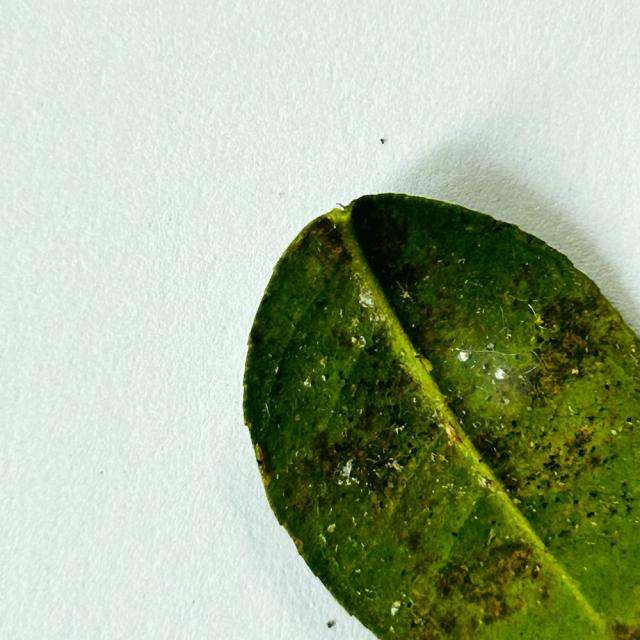Bacterial_Blight: (430, 540, 541, 624), (548, 424, 605, 475), (369, 219, 409, 267), (488, 545, 537, 584), (531, 346, 573, 387), (436, 563, 477, 603), (470, 430, 507, 467), (554, 328, 590, 362), (503, 546, 535, 578), (311, 430, 335, 469), (388, 368, 416, 400), (355, 405, 384, 433), (433, 610, 459, 633), (291, 489, 312, 515), (405, 528, 426, 553), (610, 620, 635, 640), (572, 426, 593, 448), (336, 330, 358, 351), (383, 482, 400, 501), (501, 475, 521, 491), (487, 598, 502, 618), (295, 460, 308, 476)
Lemon: (241, 194, 639, 639)
